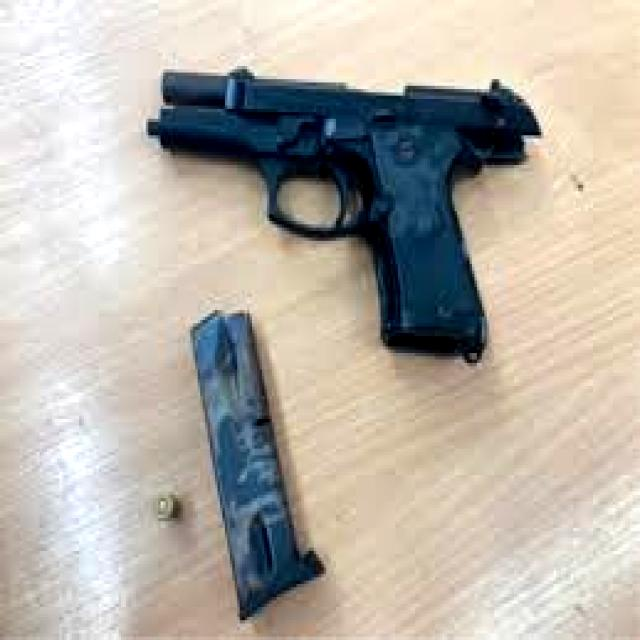semi automatic: (129, 54, 559, 633)
